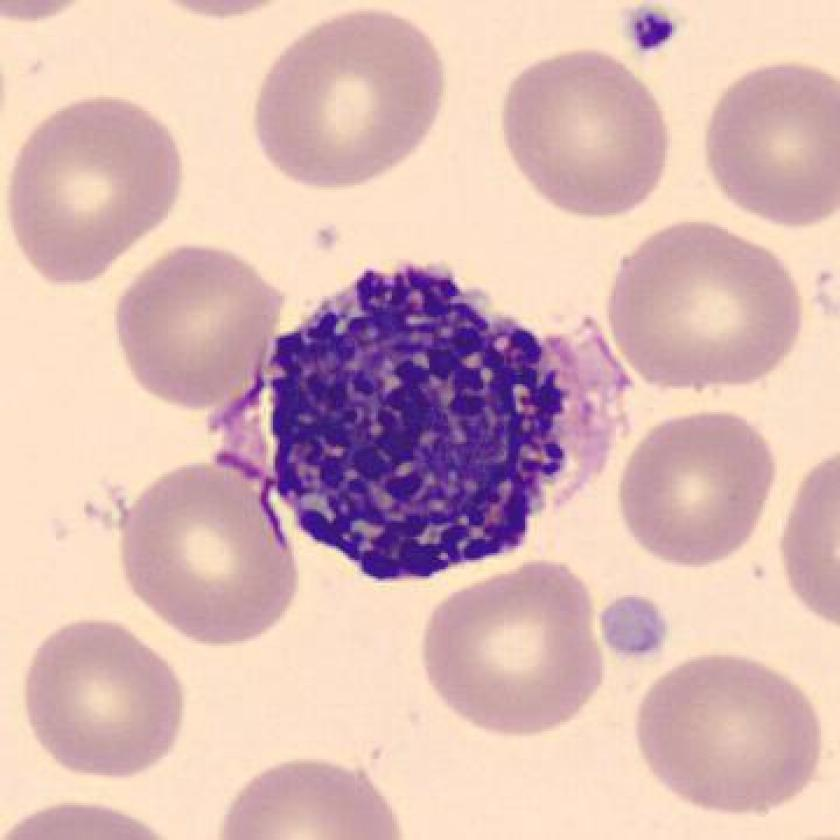basophil: (251, 244, 591, 598)
